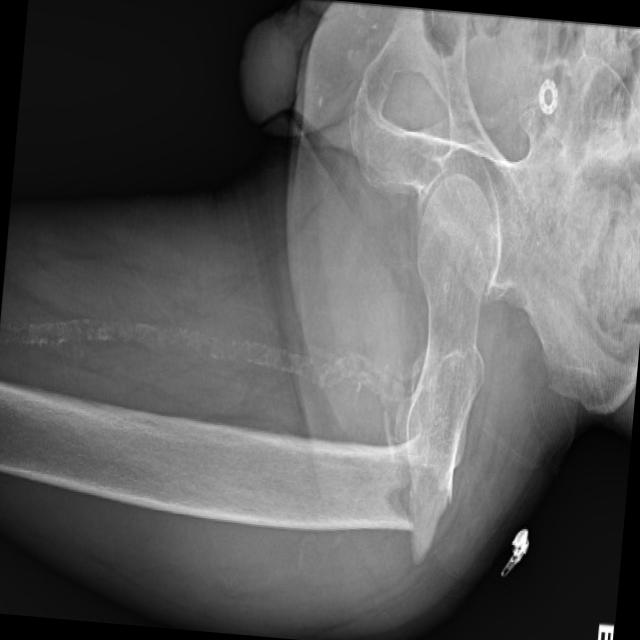left-subtrochanteric: (405, 173, 492, 566), (317, 434, 419, 531)
